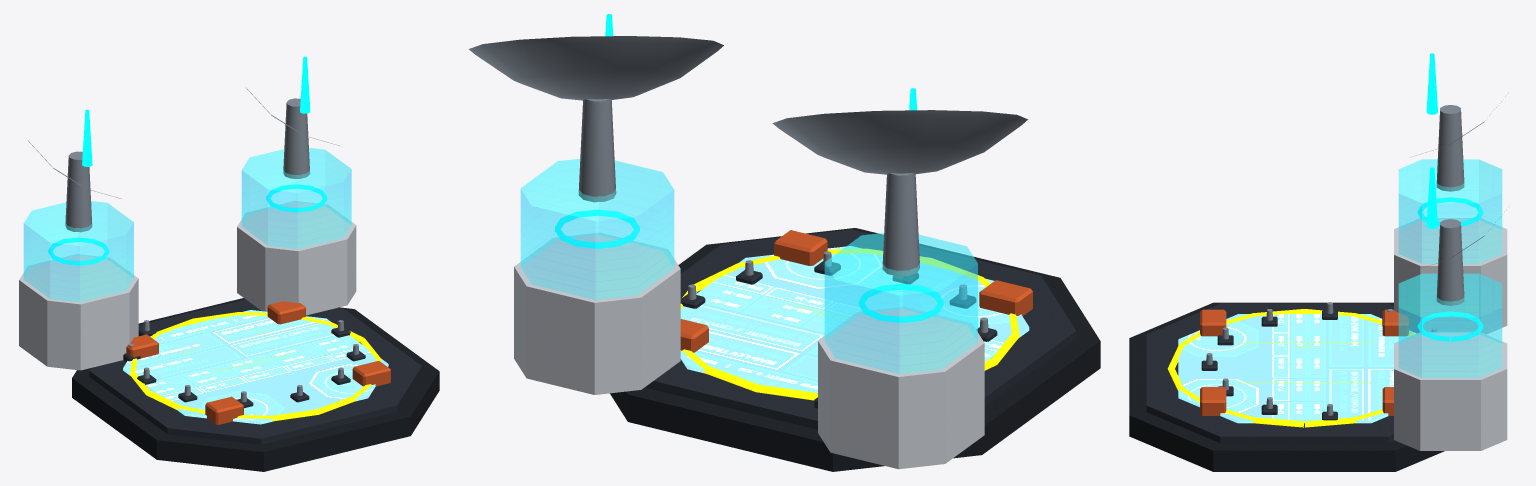
File: prop_05_r1_03.glb
3 renders of one model, left to right at view 1: azimuth 30°, elevation 25°; view 2: azimuth 150°, elevation 25°; view 3: azimuth 270°, elevation 25°, orthographic. The views are drawn at different scales.
Parts seen in each view (by area): view 1: Prop05_C03_aero_white, Prop05_C03_glass_cyan, Prop05_C03_marquee, Prop05_C03_gunmetal, Prop05_C03_carbon_slate, Prop05_C03_steel_machined, Prop05_C03_accent_orange, Prop05_C03_led_amber, Prop05_C03_led_cyan; view 2: Prop05_C03_aero_white, Prop05_C03_glass_cyan, Prop05_C03_steel_machined, Prop05_C03_marquee, Prop05_C03_gunmetal, Prop05_C03_carbon_slate, Prop05_C03_accent_orange, Prop05_C03_led_amber, Prop05_C03_led_cyan; view 3: Prop05_C03_aero_white, Prop05_C03_marquee, Prop05_C03_glass_cyan, Prop05_C03_gunmetal, Prop05_C03_carbon_slate, Prop05_C03_steel_machined, Prop05_C03_accent_orange, Prop05_C03_led_amber, Prop05_C03_led_cyan.
Boxes of the visible parts, <box> form: Prop05_C03_aero_white: <box>19,201,356,370</box>; Prop05_C03_glass_cyan: <box>23,148,351,301</box>; Prop05_C03_marquee: <box>123,310,388,424</box>; Prop05_C03_gunmetal: <box>72,298,439,471</box>; Prop05_C03_carbon_slate: <box>89,299,421,444</box>; Prop05_C03_steel_machined: <box>28,88,359,402</box>; Prop05_C03_accent_orange: <box>126,301,390,424</box>; Prop05_C03_led_amber: <box>129,312,381,420</box>; Prop05_C03_led_cyan: <box>48,56,327,265</box>; Prop05_C03_aero_white: <box>514,233,984,469</box>; Prop05_C03_glass_cyan: <box>520,158,977,373</box>; Prop05_C03_steel_machined: <box>469,36,1027,332</box>; Prop05_C03_marquee: <box>680,246,1029,392</box>; Prop05_C03_gunmetal: <box>610,228,1100,471</box>; Prop05_C03_carbon_slate: <box>646,229,1076,429</box>; Prop05_C03_accent_orange: <box>680,230,1032,352</box>; Prop05_C03_led_amber: <box>680,249,1020,400</box>; Prop05_C03_led_cyan: <box>555,14,943,322</box>; Prop05_C03_aero_white: <box>1394,218,1507,450</box>; Prop05_C03_marquee: <box>1178,314,1416,423</box>; Prop05_C03_glass_cyan: <box>1398,159,1502,377</box>; Prop05_C03_gunmetal: <box>1129,302,1444,471</box>; Prop05_C03_carbon_slate: <box>1146,303,1394,443</box>; Prop05_C03_steel_machined: <box>1206,101,1501,415</box>; Prop05_C03_accent_orange: <box>1200,309,1408,415</box>; Prop05_C03_led_amber: <box>1167,309,1413,427</box>; Prop05_C03_led_cyan: <box>1417,53,1483,341</box>.
Size of the model in its own units: 6.3 by 4.58 by 5.38.
Materials: 9 (9 with a texture image).
